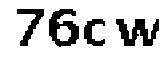6: (49, 6, 81, 51)
7: (13, 2, 47, 51)
c: (82, 16, 109, 51)
w: (112, 13, 160, 54)
